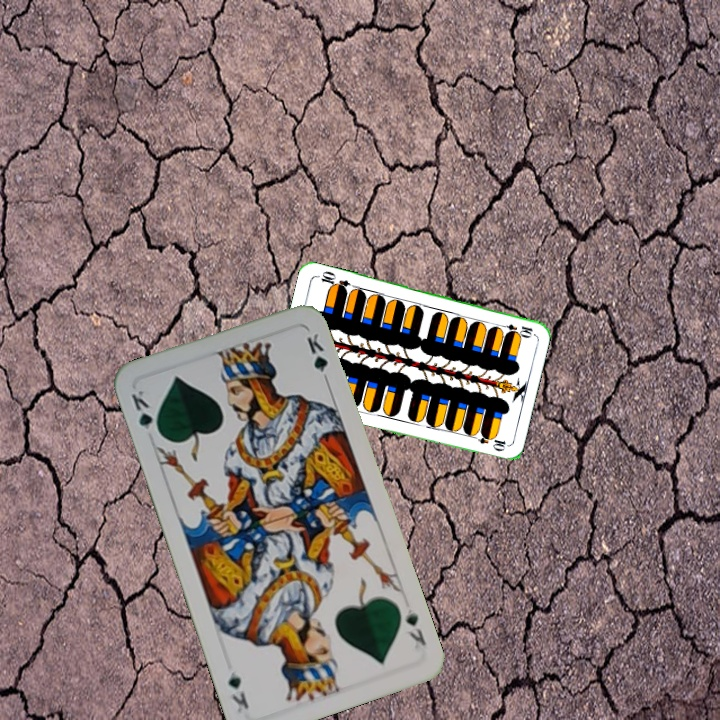E10: (495, 320, 536, 337)
GK: (127, 386, 163, 439), (401, 604, 429, 648)
